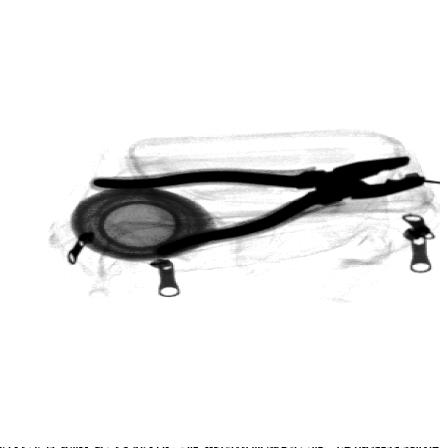Pliers: (87, 154, 427, 258)
